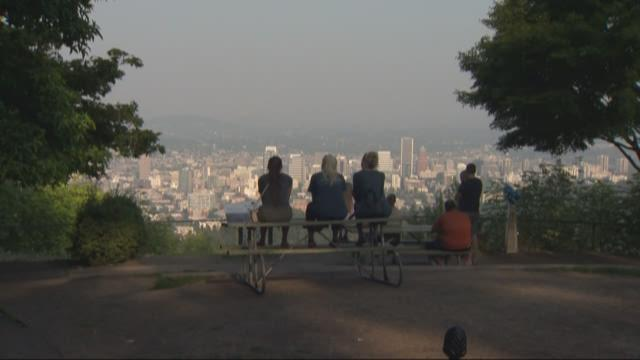backpack: (255, 160, 293, 224), (353, 162, 389, 218), (360, 182, 394, 232), (258, 174, 291, 197), (503, 183, 520, 206)
bench: (202, 194, 494, 290), (215, 173, 416, 266), (266, 202, 456, 275), (223, 207, 397, 282), (239, 171, 339, 264), (206, 208, 303, 299), (277, 166, 367, 261), (236, 219, 347, 291), (280, 227, 405, 290), (238, 198, 370, 253), (243, 152, 298, 282), (403, 190, 501, 262), (367, 205, 472, 272), (305, 206, 402, 278), (360, 231, 483, 286), (305, 176, 408, 241), (230, 193, 309, 269), (340, 222, 431, 281), (342, 195, 429, 251), (297, 199, 389, 250), (237, 216, 341, 258), (271, 187, 336, 251), (334, 183, 391, 250), (232, 177, 304, 229), (300, 161, 344, 245), (437, 211, 508, 263), (409, 210, 477, 264), (379, 200, 450, 248), (356, 216, 403, 287), (432, 191, 481, 259), (233, 189, 291, 246), (321, 225, 396, 268), (354, 164, 395, 241), (390, 230, 473, 268), (224, 224, 288, 273), (223, 202, 307, 239), (257, 162, 297, 238), (255, 194, 303, 250), (339, 238, 401, 280), (304, 194, 352, 248), (220, 220, 299, 251), (223, 204, 276, 250), (361, 197, 398, 261), (389, 247, 473, 275), (286, 180, 320, 249), (268, 219, 344, 249), (344, 217, 390, 262), (397, 224, 446, 266), (425, 226, 475, 265), (385, 211, 430, 254), (365, 216, 423, 249), (289, 209, 340, 246), (428, 212, 474, 252), (320, 218, 383, 247), (352, 195, 386, 247), (302, 218, 360, 248), (248, 183, 296, 219), (224, 199, 286, 226), (367, 219, 403, 264), (256, 221, 311, 249), (399, 196, 429, 247), (407, 220, 461, 248), (222, 193, 262, 230), (257, 206, 289, 248), (399, 238, 455, 262), (359, 212, 394, 247), (305, 209, 351, 235), (373, 200, 398, 246), (291, 226, 336, 249), (394, 248, 448, 267), (345, 218, 386, 243), (393, 235, 433, 260), (293, 219, 337, 241), (382, 207, 403, 248), (303, 208, 324, 248), (426, 249, 472, 267), (307, 223, 340, 247), (400, 223, 430, 249), (251, 208, 292, 227), (332, 218, 359, 246), (320, 223, 349, 248), (272, 224, 302, 248), (224, 202, 255, 225), (404, 231, 441, 250), (399, 215, 423, 244), (413, 251, 455, 267), (285, 220, 308, 248), (261, 225, 289, 248), (355, 211, 390, 228), (342, 216, 361, 243), (407, 227, 435, 243), (398, 253, 432, 265)
bicycle: (349, 181, 397, 253), (355, 216, 404, 286), (364, 214, 395, 266), (374, 233, 402, 283), (383, 244, 402, 289)
boat: (225, 187, 291, 224), (222, 170, 262, 225), (224, 202, 252, 224)
car: (503, 182, 520, 211)
chair: (312, 198, 404, 289), (390, 200, 475, 270), (323, 180, 398, 254), (343, 188, 390, 273), (330, 211, 405, 264), (304, 163, 350, 248), (351, 159, 390, 248), (379, 200, 450, 248), (256, 173, 300, 249), (239, 173, 290, 234), (360, 209, 401, 283), (367, 190, 407, 262), (397, 231, 476, 267), (428, 207, 475, 267), (325, 190, 374, 246), (407, 213, 471, 253), (371, 216, 416, 272), (322, 175, 356, 248), (441, 192, 478, 258), (255, 160, 293, 224), (311, 217, 386, 248), (399, 221, 455, 261), (387, 192, 422, 251), (338, 209, 392, 247), (308, 205, 356, 247), (365, 216, 423, 249), (312, 190, 351, 238), (303, 194, 340, 244), (366, 238, 404, 286), (351, 172, 385, 223), (248, 183, 296, 219), (360, 182, 394, 232), (395, 215, 431, 262), (360, 199, 395, 247), (224, 199, 286, 226), (456, 201, 481, 267), (255, 194, 290, 241), (399, 196, 429, 247), (436, 204, 472, 246), (297, 201, 329, 247), (424, 238, 474, 267), (440, 222, 472, 264), (426, 212, 463, 248), (426, 226, 466, 258), (351, 203, 384, 241), (368, 222, 392, 273), (373, 193, 398, 241), (330, 194, 353, 246), (254, 177, 280, 223), (344, 204, 371, 245), (303, 220, 340, 248), (250, 199, 291, 223), (358, 216, 388, 248), (392, 204, 414, 247), (331, 219, 364, 247), (369, 217, 399, 247), (383, 219, 404, 261), (393, 221, 418, 256), (336, 207, 359, 245), (382, 204, 402, 247), (403, 195, 431, 225), (404, 212, 430, 244), (466, 211, 481, 265), (363, 203, 392, 230), (427, 251, 472, 268), (399, 208, 420, 244), (400, 223, 429, 249), (409, 225, 440, 249), (224, 202, 255, 225), (416, 192, 436, 226), (405, 202, 426, 233), (367, 221, 386, 246), (312, 226, 333, 248), (411, 199, 427, 225), (406, 199, 421, 224), (399, 221, 415, 244), (422, 232, 441, 250), (420, 231, 437, 243)
dining table: (227, 216, 402, 292), (236, 209, 381, 264), (305, 206, 402, 278), (253, 200, 356, 251), (373, 226, 472, 276), (342, 195, 429, 251), (297, 199, 389, 250), (396, 214, 474, 264), (334, 183, 391, 250), (379, 200, 450, 248), (304, 194, 352, 248), (352, 216, 396, 273), (393, 239, 476, 267), (396, 194, 433, 247), (397, 219, 453, 251), (326, 218, 376, 248), (344, 216, 389, 247), (358, 205, 392, 246), (307, 219, 355, 247), (369, 217, 399, 247), (401, 197, 433, 224), (223, 201, 256, 225), (400, 222, 433, 245), (404, 228, 439, 249), (355, 211, 390, 228)
handbag: (303, 154, 349, 244), (255, 160, 293, 224), (353, 162, 389, 218), (360, 182, 394, 232), (257, 190, 289, 224), (356, 191, 391, 218), (312, 189, 343, 215)
person: (290, 157, 398, 264), (250, 173, 364, 262), (243, 152, 298, 282), (418, 177, 491, 265), (342, 175, 402, 258), (273, 154, 329, 239), (301, 153, 349, 249), (352, 194, 400, 286), (253, 172, 305, 254), (302, 153, 370, 210), (399, 200, 467, 254), (349, 152, 390, 239), (234, 158, 283, 230), (403, 218, 475, 267), (418, 162, 462, 240), (365, 164, 405, 249), (479, 162, 514, 258), (255, 155, 296, 233), (319, 161, 357, 244), (425, 198, 473, 263), (382, 196, 438, 251), (400, 181, 445, 246), (448, 169, 481, 253), (461, 162, 492, 250), (219, 166, 262, 228), (334, 164, 365, 246), (286, 171, 319, 247), (430, 182, 471, 243), (297, 197, 347, 247), (433, 166, 476, 222), (489, 181, 519, 255), (358, 189, 395, 246), (345, 155, 376, 218), (419, 198, 460, 244), (434, 222, 474, 265), (453, 163, 481, 221), (355, 177, 390, 222), (262, 156, 292, 208), (439, 209, 471, 254), (451, 182, 479, 230), (501, 183, 521, 247), (437, 164, 464, 211), (422, 162, 446, 214), (446, 164, 473, 209), (367, 153, 391, 202), (373, 200, 398, 246), (429, 168, 454, 213), (428, 197, 458, 230), (500, 177, 522, 220), (343, 160, 359, 215), (383, 196, 402, 241), (423, 195, 446, 231), (336, 168, 352, 215), (459, 163, 481, 193), (434, 182, 452, 216), (439, 173, 458, 205), (445, 172, 462, 207), (442, 180, 460, 213), (341, 175, 354, 220), (450, 162, 466, 198), (444, 162, 460, 198), (432, 171, 447, 209), (429, 181, 444, 219), (425, 176, 441, 211), (435, 171, 451, 200), (347, 159, 361, 192), (305, 166, 322, 192), (383, 183, 397, 214), (384, 193, 400, 220), (503, 182, 520, 207), (428, 173, 444, 198), (387, 195, 405, 214), (448, 176, 460, 198), (456, 162, 467, 186), (434, 187, 444, 213), (348, 159, 360, 178), (435, 172, 445, 193), (385, 193, 396, 211), (444, 199, 457, 213), (394, 196, 407, 210), (427, 179, 438, 194)
potted plant: (403, 195, 431, 225), (405, 202, 426, 233), (411, 199, 427, 225)
